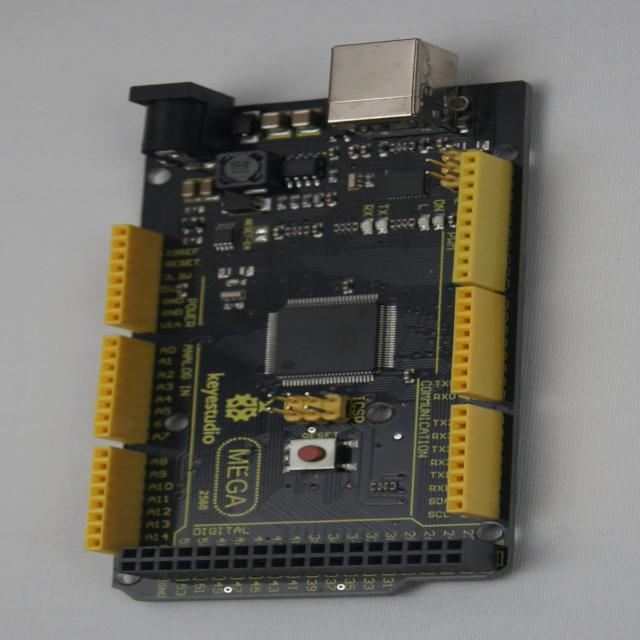Arduino Mega 2560 -Yellow-: (86, 40, 528, 600)
